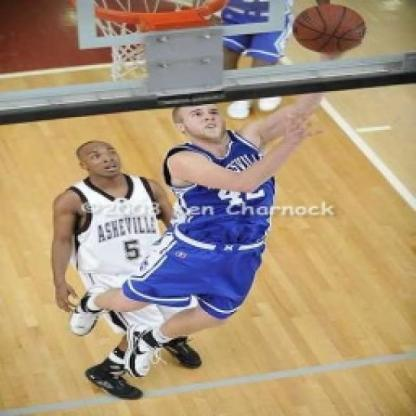basketball: (290, 0, 369, 56)
